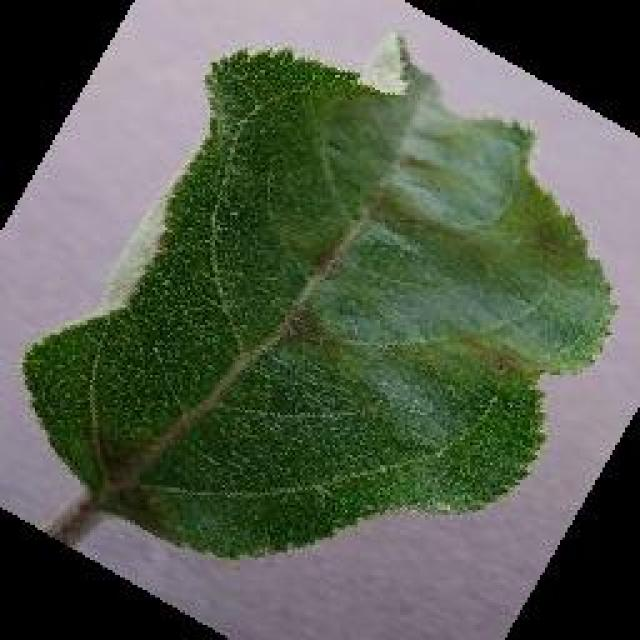apple scab disease: (20, 30, 618, 560)
